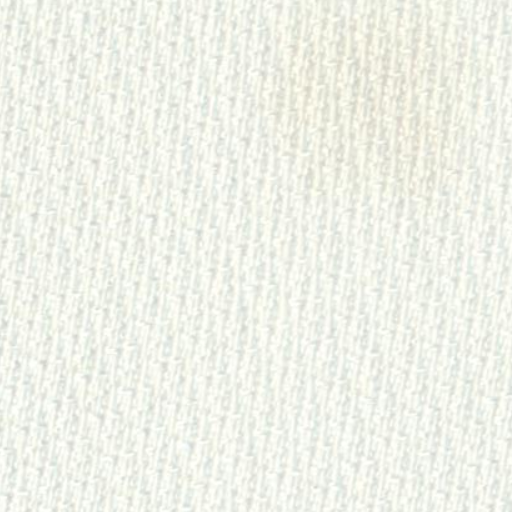WuZi: (266, 4, 492, 226)
